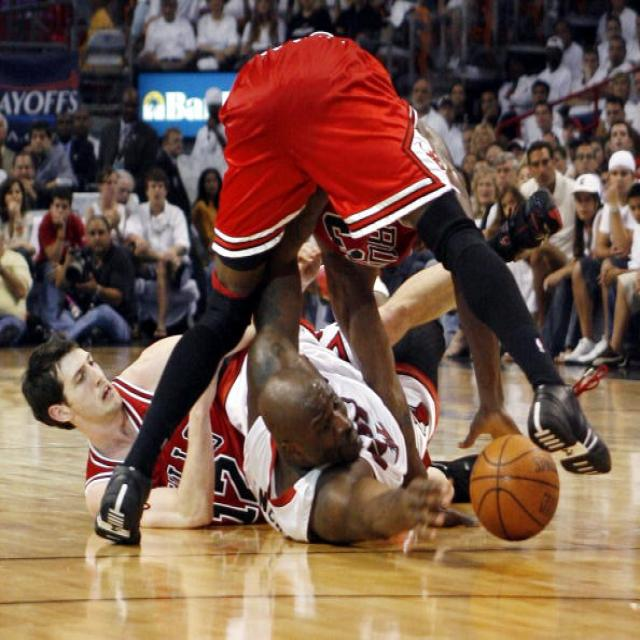10-: (0, 0, 637, 552)
down: (22, 308, 236, 528), (240, 360, 402, 520)
